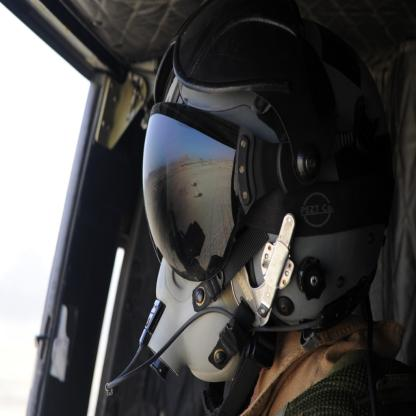Helmet: (122, 2, 388, 366)
